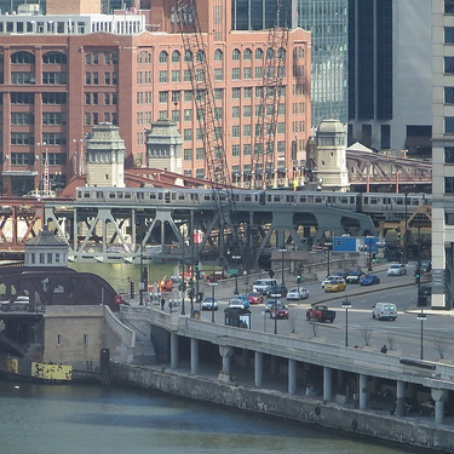bridge: (1, 164, 440, 245)
building: (1, 27, 317, 193)
car: (307, 299, 333, 326), (367, 299, 397, 320), (283, 282, 312, 302), (260, 302, 290, 321), (195, 295, 220, 314), (253, 279, 279, 295), (321, 277, 344, 294)
river: (5, 376, 454, 454)
train: (76, 187, 443, 208)
